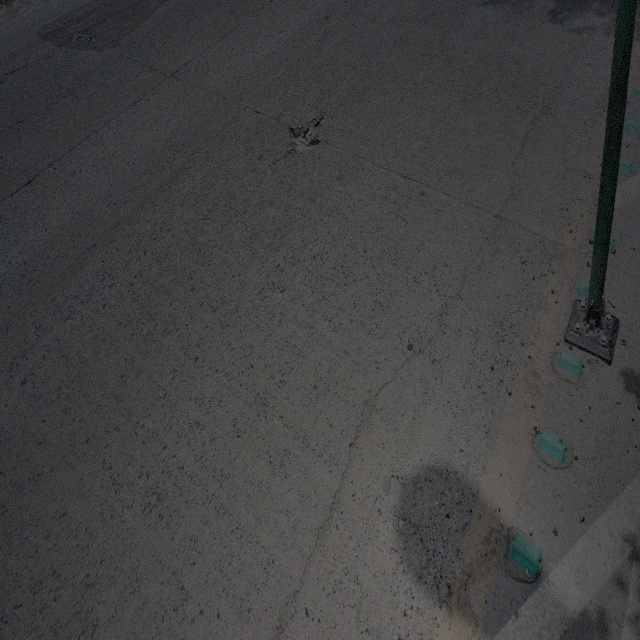pothole: (279, 110, 326, 166), (70, 28, 94, 46)
